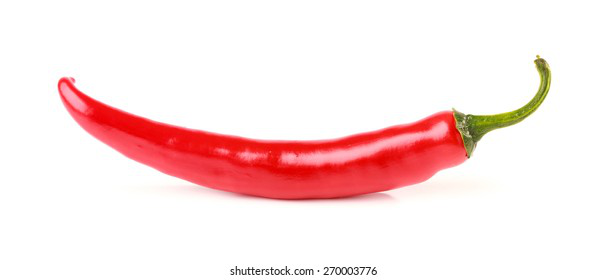Cabai: (15, 26, 573, 227)
